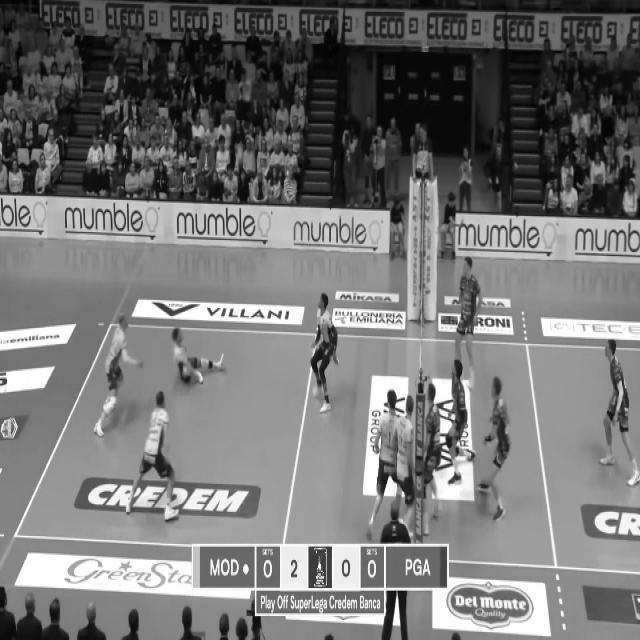volleyball court: (10, 320, 639, 571)
